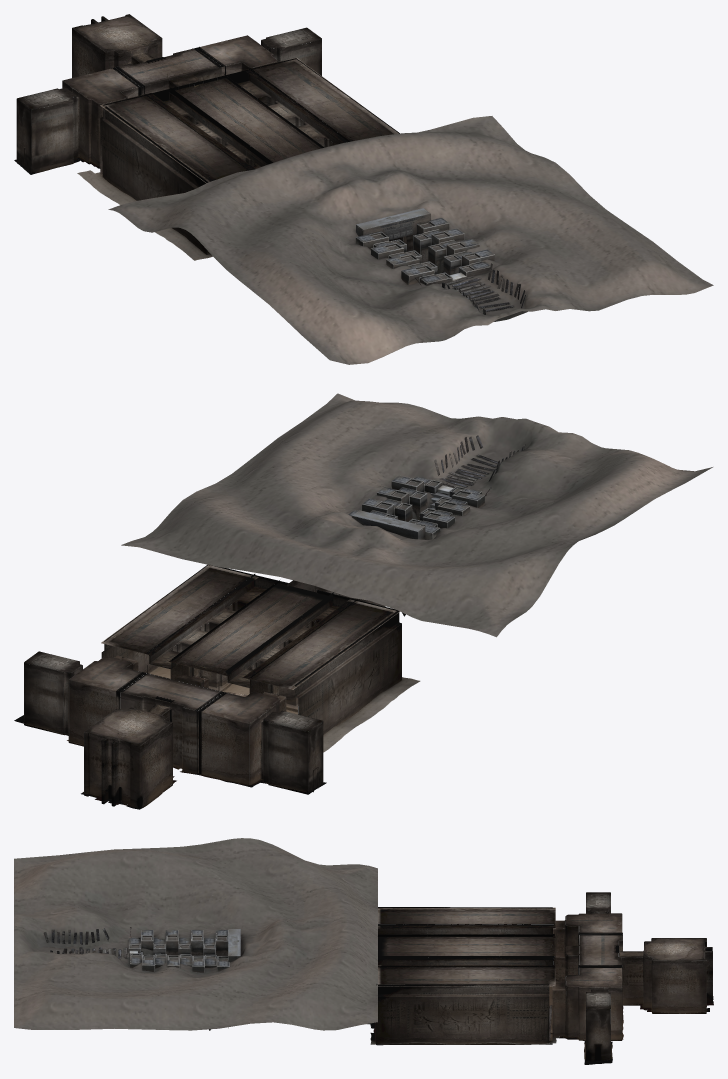
3 views of the same model, one above another, from view 1: azimuth 30°, elevation 25°; view 2: azimuth 150°, elevation 25°; view 3: azimuth 270°, elevation 25° (orthographic). The views are drawn at different scales.
Visible parts, largest first — view 1: ground near, ceiling hall side, wall hall left, ceiling halll midle, left room, main room, left room hallway, wall stair right, middle room hallway, column right, wall stair left, colum left (+7 smaller); view 2: ground near, ceiling hall side, main room, wall hall left, left room hallway, ceiling halll midle, left room, middle room hallway, right room hallway, right room, column right, colum left (+6 smaller); view 3: ground near, wall hall right, ceiling hall side, main room, ceiling halll midle, right room hallway, column right, wall stair left, colum left, right room, left room hallway, middle room hallway (+6 smaller).
Boxes of the visible parts, box(x1,y1,x2,y2) form: ground near: box(108, 116, 713, 364); ceiling hall side: box(100, 57, 398, 183); wall hall left: box(102, 106, 210, 254); ceiling halll midle: box(168, 78, 321, 164); left room: box(16, 88, 78, 173); main room: box(72, 14, 162, 77); left room hallway: box(62, 67, 140, 168); wall stair right: box(413, 218, 494, 276); middle room hallway: box(115, 48, 221, 94); column right: box(224, 67, 350, 147); wall stair left: box(355, 231, 452, 285); colum left: box(145, 87, 272, 170); ground near: box(121, 393, 712, 637); ceiling hall side: box(101, 565, 399, 689); main room: box(84, 704, 172, 808); wall hall left: box(294, 589, 401, 734); left room hallway: box(199, 691, 286, 785); ceiling halll midle: box(168, 584, 334, 675); left room: box(261, 710, 323, 794); middle room hallway: box(120, 673, 223, 773); right room hallway: box(68, 655, 145, 746); right room: box(24, 651, 82, 735); column right: box(147, 574, 279, 691); colum left: box(225, 592, 357, 713); ground near: box(14, 838, 377, 1030); wall hall right: box(376, 983, 549, 1045); ceiling hall side: box(378, 907, 555, 986); main room: box(619, 938, 712, 1013); ceiling halll midle: box(378, 936, 555, 960); right room hallway: box(552, 966, 622, 1040); column right: box(378, 956, 554, 967); wall stair left: box(128, 930, 228, 956); colum left: box(378, 924, 554, 936); right room: box(586, 989, 610, 1061); left room hallway: box(553, 913, 622, 951); middle room hallway: box(578, 934, 622, 966).
Bounding box in the file's own units: 5183 × 1817 × 9963.
Materials: 56 (53 with a texture image).
